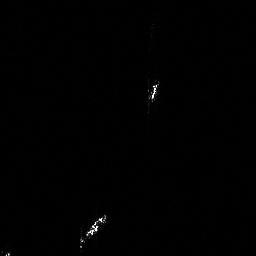ship: (77, 211, 110, 249), (145, 80, 162, 102)
